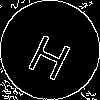H: (25, 25, 78, 82)
